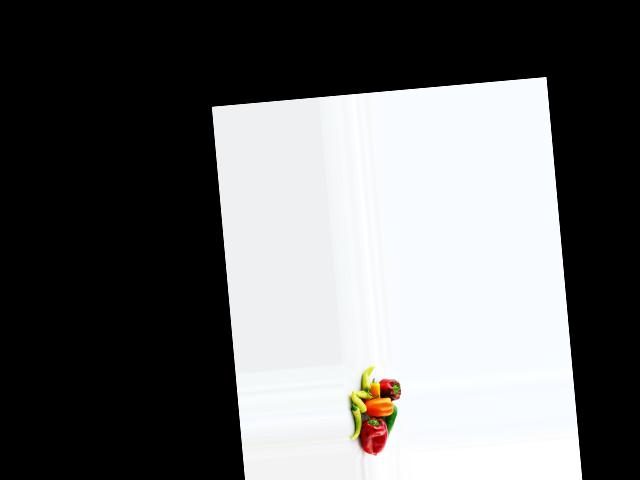bell_pepper: (347, 400, 363, 442)
